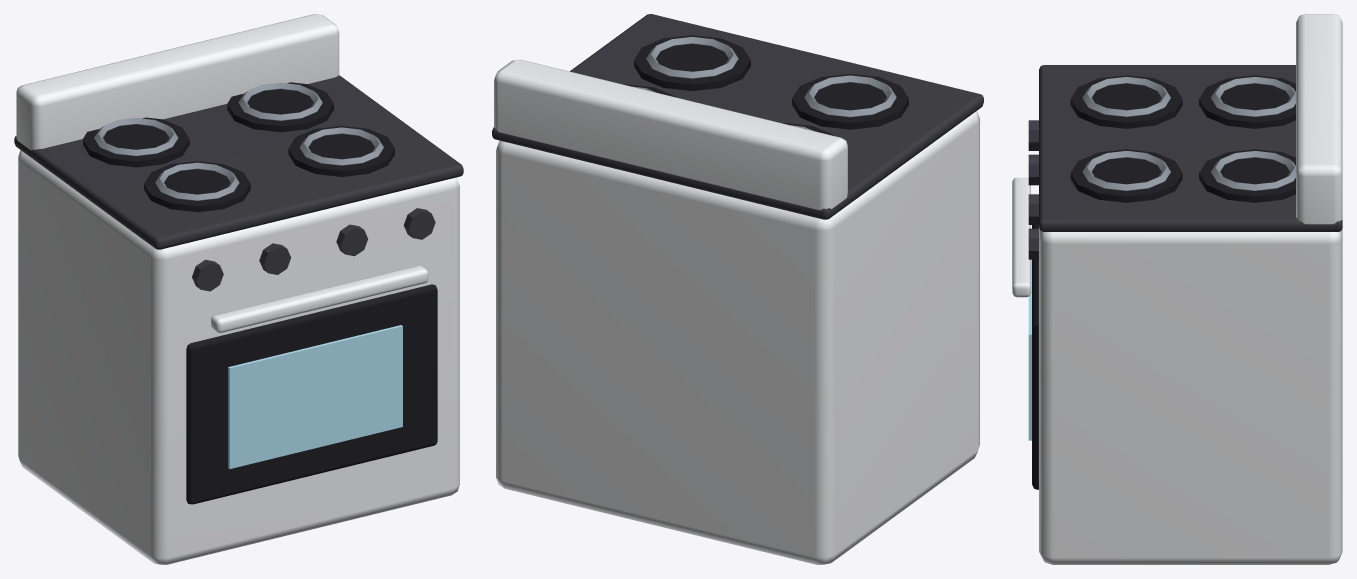
The model's file is Stove.fbx.
The picture shows the model from 3 angles, left to right: view 1: azimuth 30°, elevation 25°; view 2: azimuth 150°, elevation 25°; view 3: azimuth 270°, elevation 25°; orthographic projection. The views are drawn at different scales.
Visible parts, largest first — view 1: Stove; view 2: Stove; view 3: Stove.
Boxes of the visible parts, x1,y1,x2,y2 form: Stove: [14, 14, 463, 564]; Stove: [492, 14, 983, 564]; Stove: [1012, 14, 1342, 564].
Bounding box in the file's own units: 3.2 × 3.8 × 2.83.
Materials: 1 (1 with a texture image).
